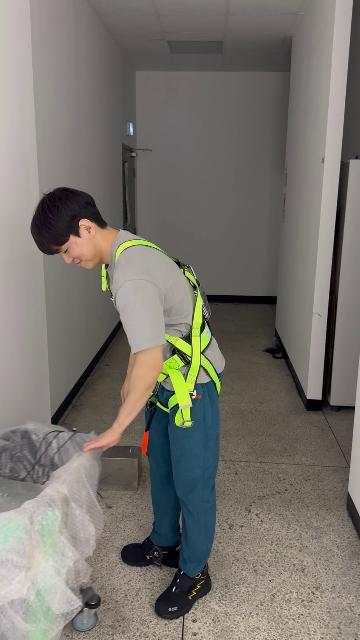helmet_not_worn: (29, 188, 109, 254)
shoe_worn: (154, 562, 211, 619), (121, 533, 181, 567)
vest_worn: (100, 239, 213, 417)
